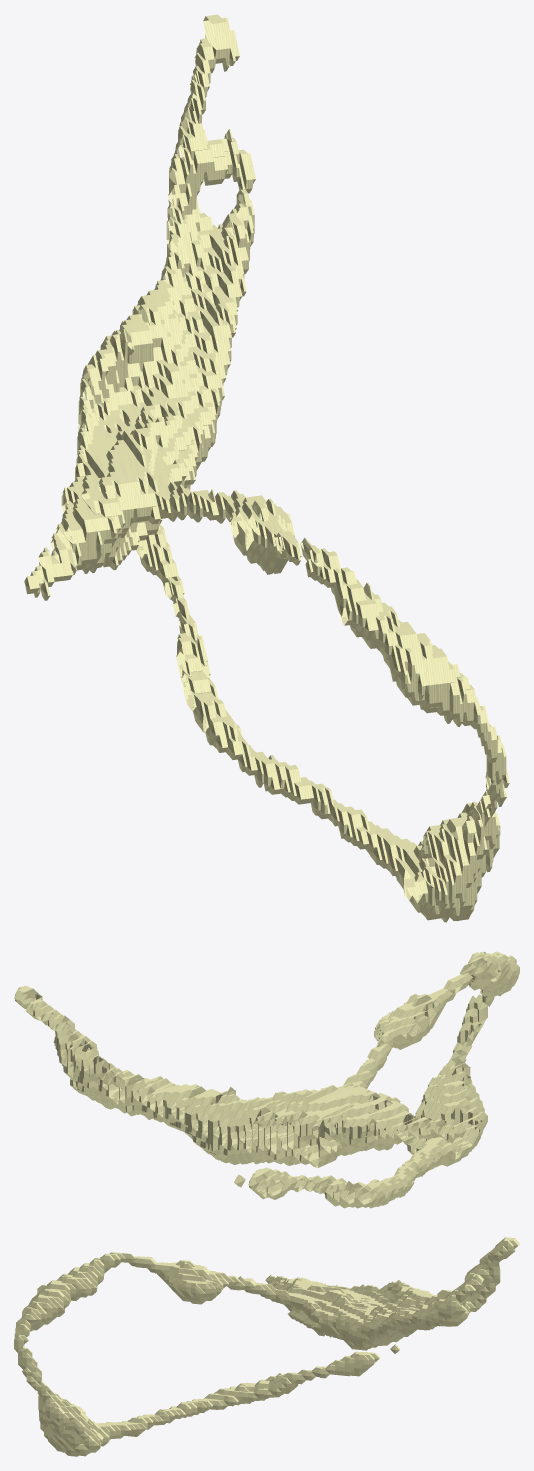
Rendered from SVV_IL2VR.gltf.
3 renders of one model, top to bottom at view 1: azimuth 30°, elevation 25°; view 2: azimuth 150°, elevation 25°; view 3: azimuth 270°, elevation 25°, orthographic. The views are drawn at different scales.
Visible parts, largest first — view 1: IL2VR; view 2: IL2VR; view 3: IL2VR.
Boxes of the visible parts, x1,y1,x2,y2 form: IL2VR: (24,14,509,922); IL2VR: (14,951,519,1208); IL2VR: (14,1237,519,1456).
Size of the model in its own units: 33977 by 38910 by 67328.
